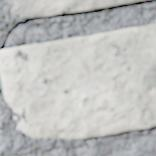brick: (0, 24, 155, 139), (11, 0, 141, 17)
crack: (1, 0, 155, 50)
